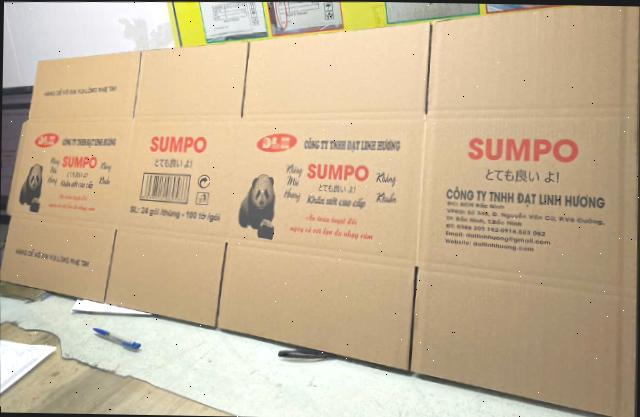box: (0, 4, 639, 416)
